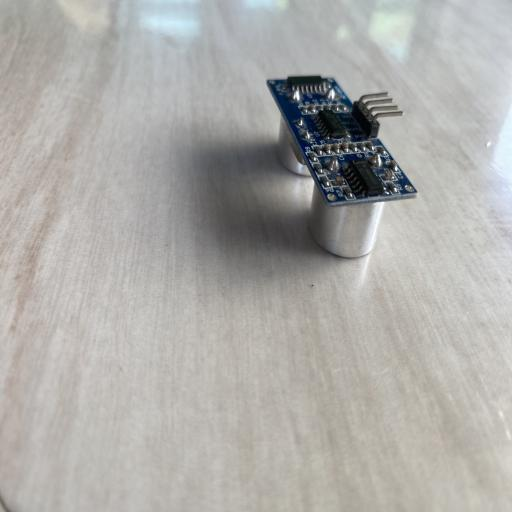Ultrasonic Sensor: (266, 74, 418, 259)
